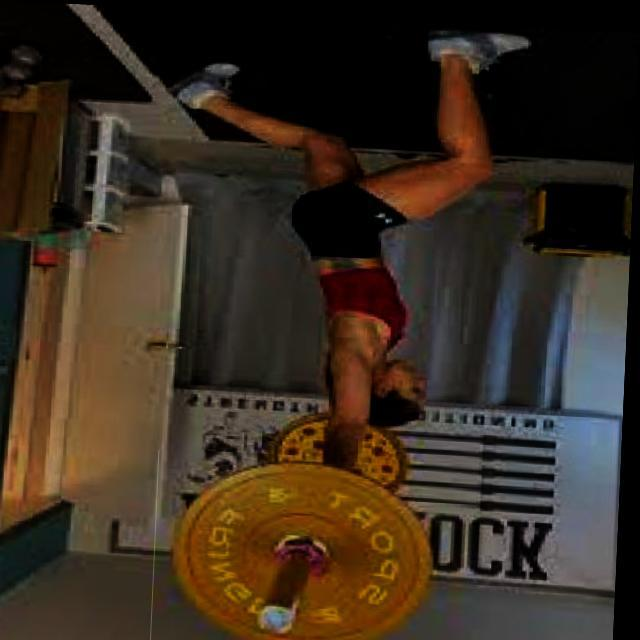barbell: (157, 449, 459, 640)
